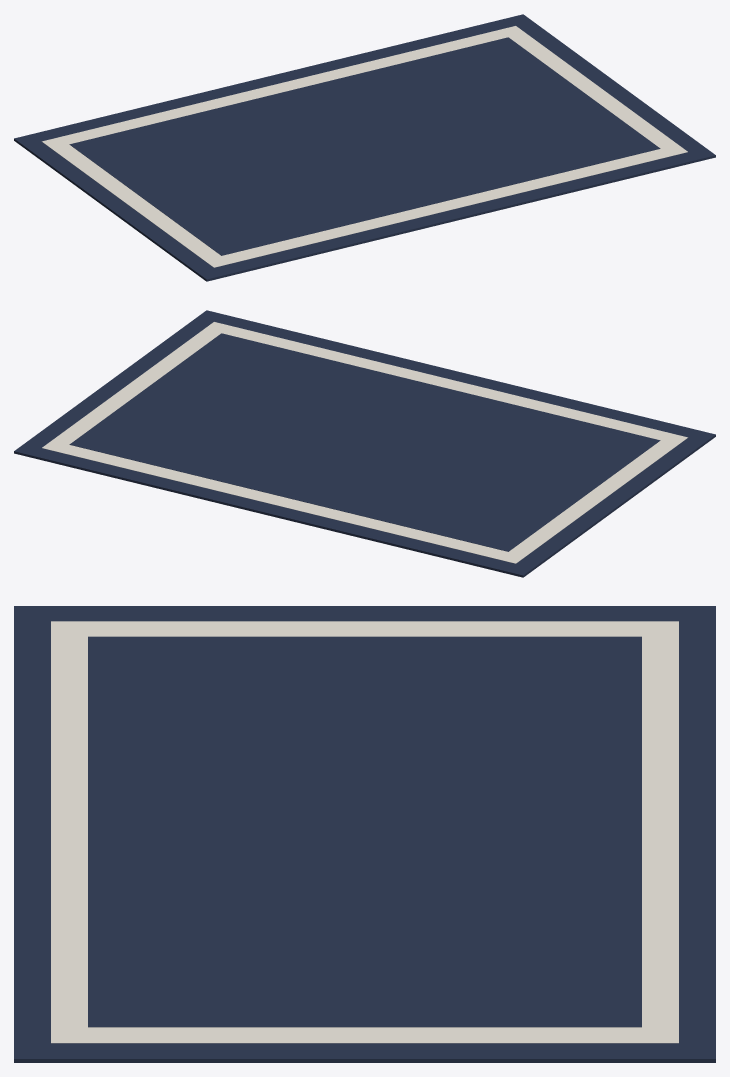
The model's file is rugLarge.glb.
3 renders of one model, top to bottom at view 1: azimuth 30°, elevation 25°; view 2: azimuth 150°, elevation 25°; view 3: azimuth 270°, elevation 25°, orthographic. The views are drawn at different scales.
Visible parts, largest first — view 1: rugLarge; view 2: rugLarge; view 3: rugLarge.
Part boxes in pixels (bbox=[...]): rugLarge: bbox=[14, 14, 715, 281]; rugLarge: bbox=[14, 310, 715, 577]; rugLarge: bbox=[14, 606, 715, 1062].
Bounding box in the file's own units: 2.9 × 0.0142 × 1.9.
